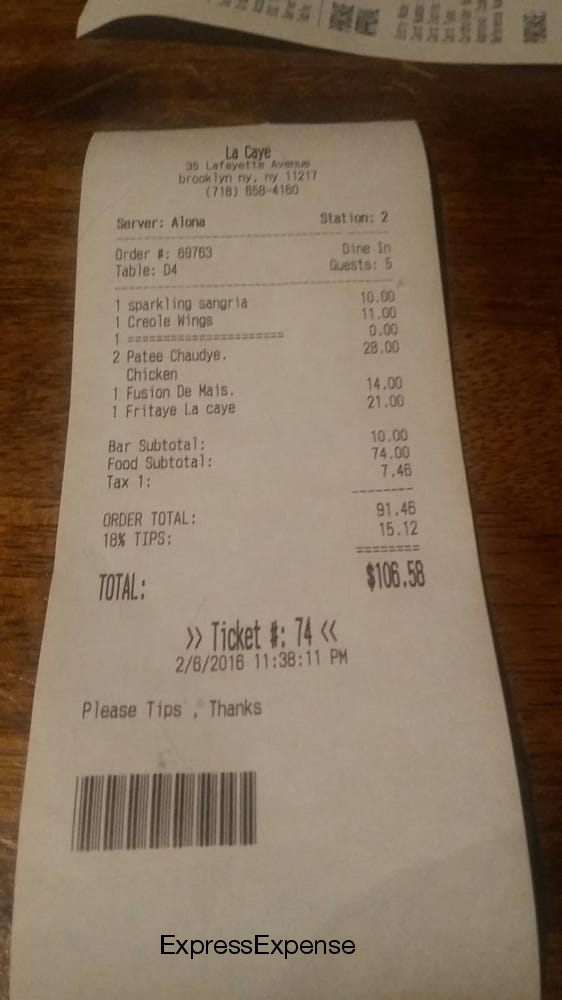Additional details: (56, 610, 394, 872)
Purchase summary: (95, 200, 428, 606)
Receipt: (9, 112, 543, 996)
Shop details: (176, 137, 335, 201)
